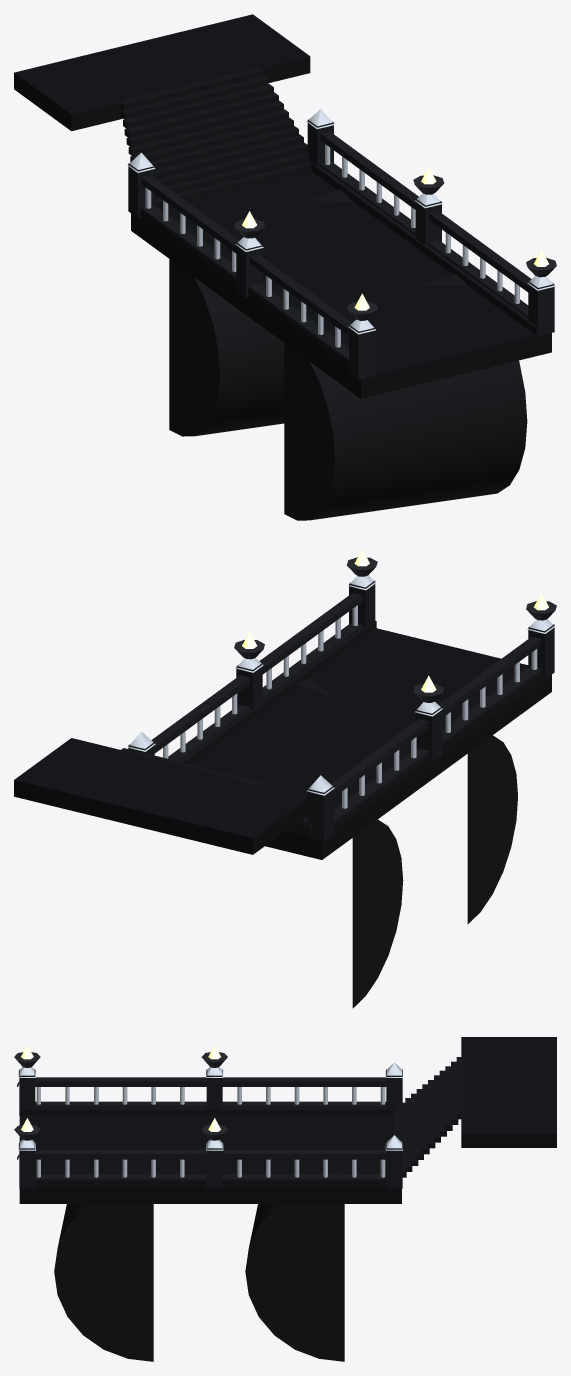
The model's file is stone_bridge.glb.
The picture shows the model from 3 angles, top to bottom: view 1: azimuth 30°, elevation 25°; view 2: azimuth 150°, elevation 25°; view 3: azimuth 270°, elevation 25°; orthographic projection. The views are drawn at different scales.
Bounding box in the file's own units: 6 × 7.02 × 14.2.
